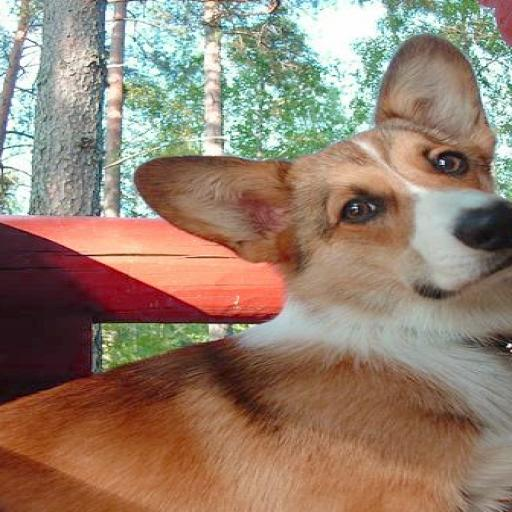dog_face: (135, 43, 512, 324)
